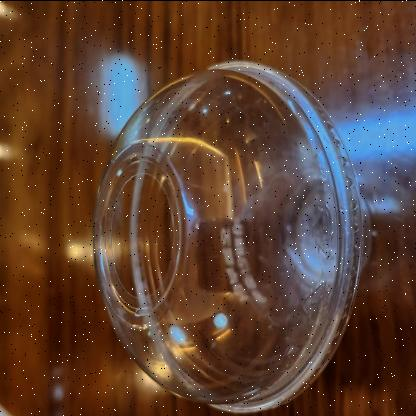Others: (92, 52, 372, 416)
